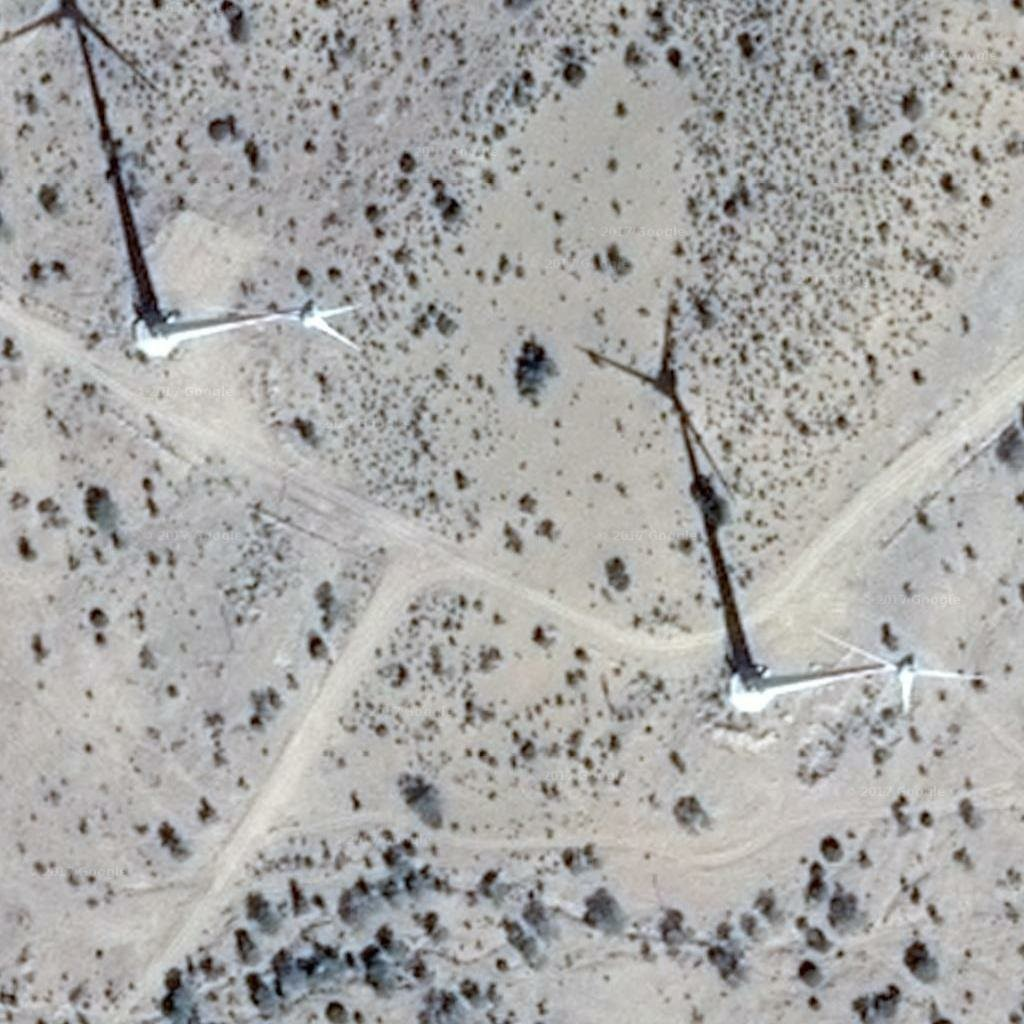Windmill: (578, 303, 753, 605)
